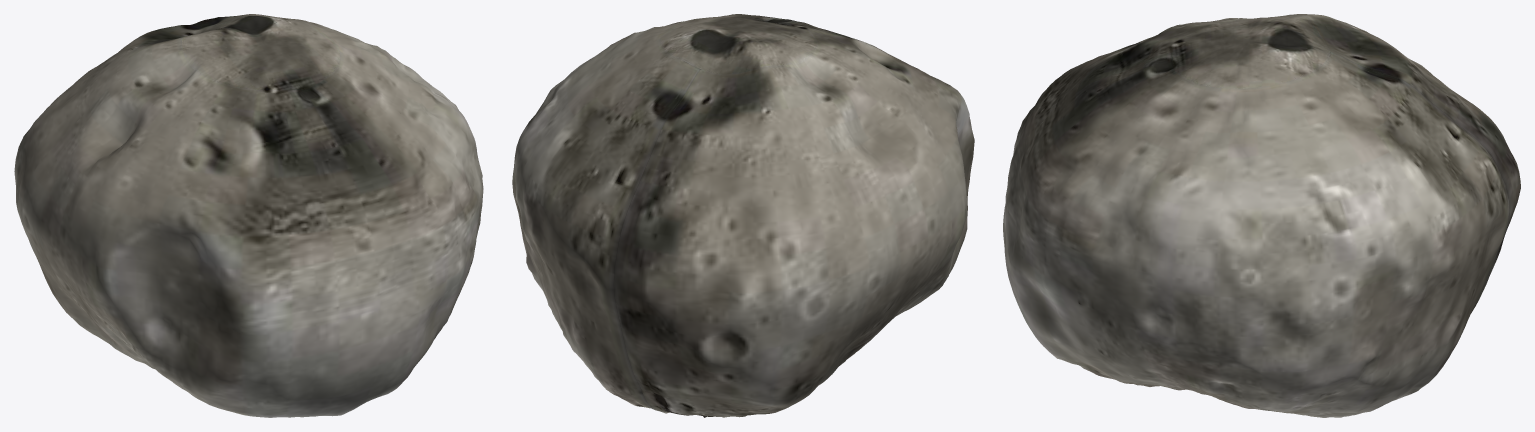
Rendered from phobos.glb.
3 views of the same model, side by side, from view 1: azimuth 30°, elevation 25°; view 2: azimuth 150°, elevation 25°; view 3: azimuth 270°, elevation 25° (orthographic). The views are drawn at different scales.
Visible parts, largest first — view 1: phobos; view 2: phobos; view 3: phobos.
Boxes of the visible parts, x1=… form: phobos: x1=14, y1=14, x2=483, y2=417; phobos: x1=512, y1=14, x2=974, y2=417; phobos: x1=1003, y1=14, x2=1520, y2=417.
Bounding box in the file's own units: 24.37 × 20.52 × 27.04.
Materials: 1 (1 with a texture image).
